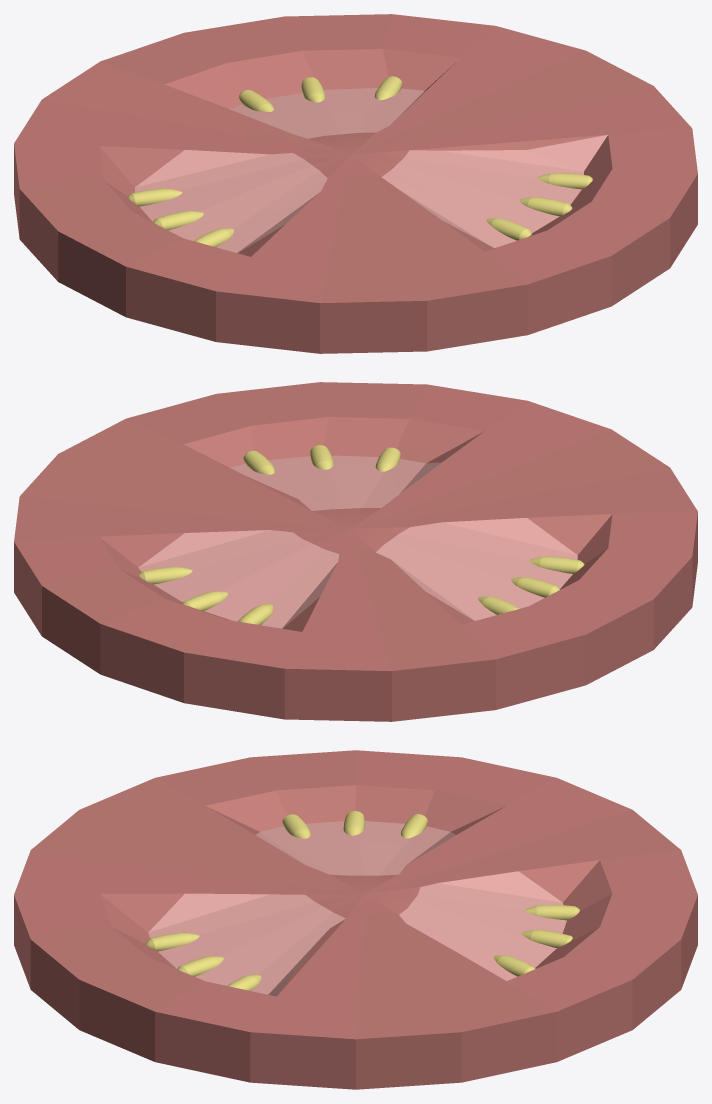
The model's file is tomatoSlice.fbx.
3 views of the same model, one above another, from view 1: azimuth 30°, elevation 25°; view 2: azimuth 150°, elevation 25°; view 3: azimuth 270°, elevation 25° (orthographic).
Visible parts, largest first — view 1: tomato, tomatoSeed04, tomatoSeed06, tomatoSeed09, tomatoSeed08, tomatoSeed05; view 2: tomato, tomatoSeed07, tomatoSeed03, tomatoSeed08, tomatoSeed02; view 3: tomato, tomatoSeed05, tomatoSeed01, tomatoSeed02, tomatoSeed06.
Boxes of the visible parts, x1,y1,x2,y2 form: tomato: (14,14,697,353); tomatoSeed04: (537,173,592,189); tomatoSeed06: (519,197,572,216); tomatoSeed09: (128,188,182,206); tomatoSeed08: (153,211,203,230); tomatoSeed05: (486,218,531,240); tomato: (14,382,697,721); tomatoSeed07: (529,556,584,573); tomatoSeed03: (138,567,192,584); tomatoSeed08: (511,577,559,597); tomatoSeed02: (182,591,227,610); tomato: (14,750,697,1089); tomatoSeed05: (145,932,199,951); tomatoSeed01: (525,905,579,920); tomatoSeed02: (521,930,572,947); tomatoSeed06: (177,956,223,976).
Size of the model in its own units: 3.03 by 0.259 by 3.03.
